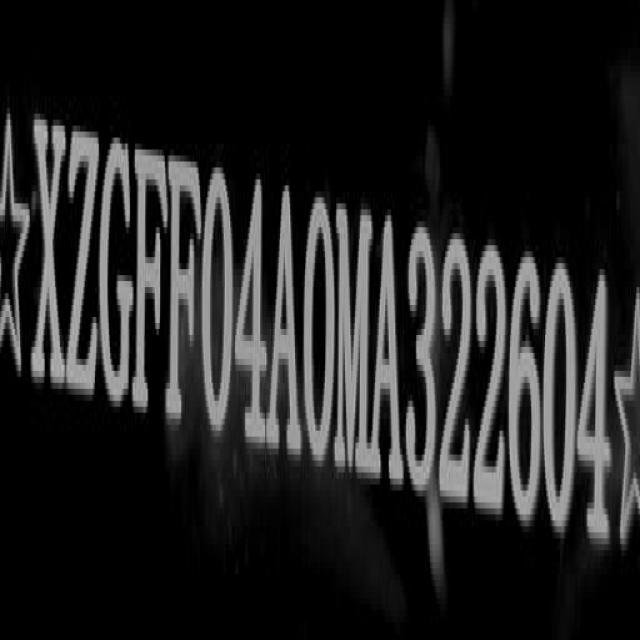0: (302, 187, 336, 477), (546, 260, 579, 544), (203, 162, 234, 446)
2: (440, 229, 475, 520), (473, 239, 508, 527)
3: (408, 221, 438, 507)
4: (579, 269, 614, 555), (235, 162, 267, 457)
6: (509, 246, 543, 535)
A: (270, 176, 300, 468), (373, 208, 403, 494)
F: (169, 149, 203, 443), (138, 133, 168, 428)
G: (102, 126, 134, 417)
M: (339, 198, 373, 487)
X: (32, 103, 68, 405)
Z: (67, 115, 98, 407)
